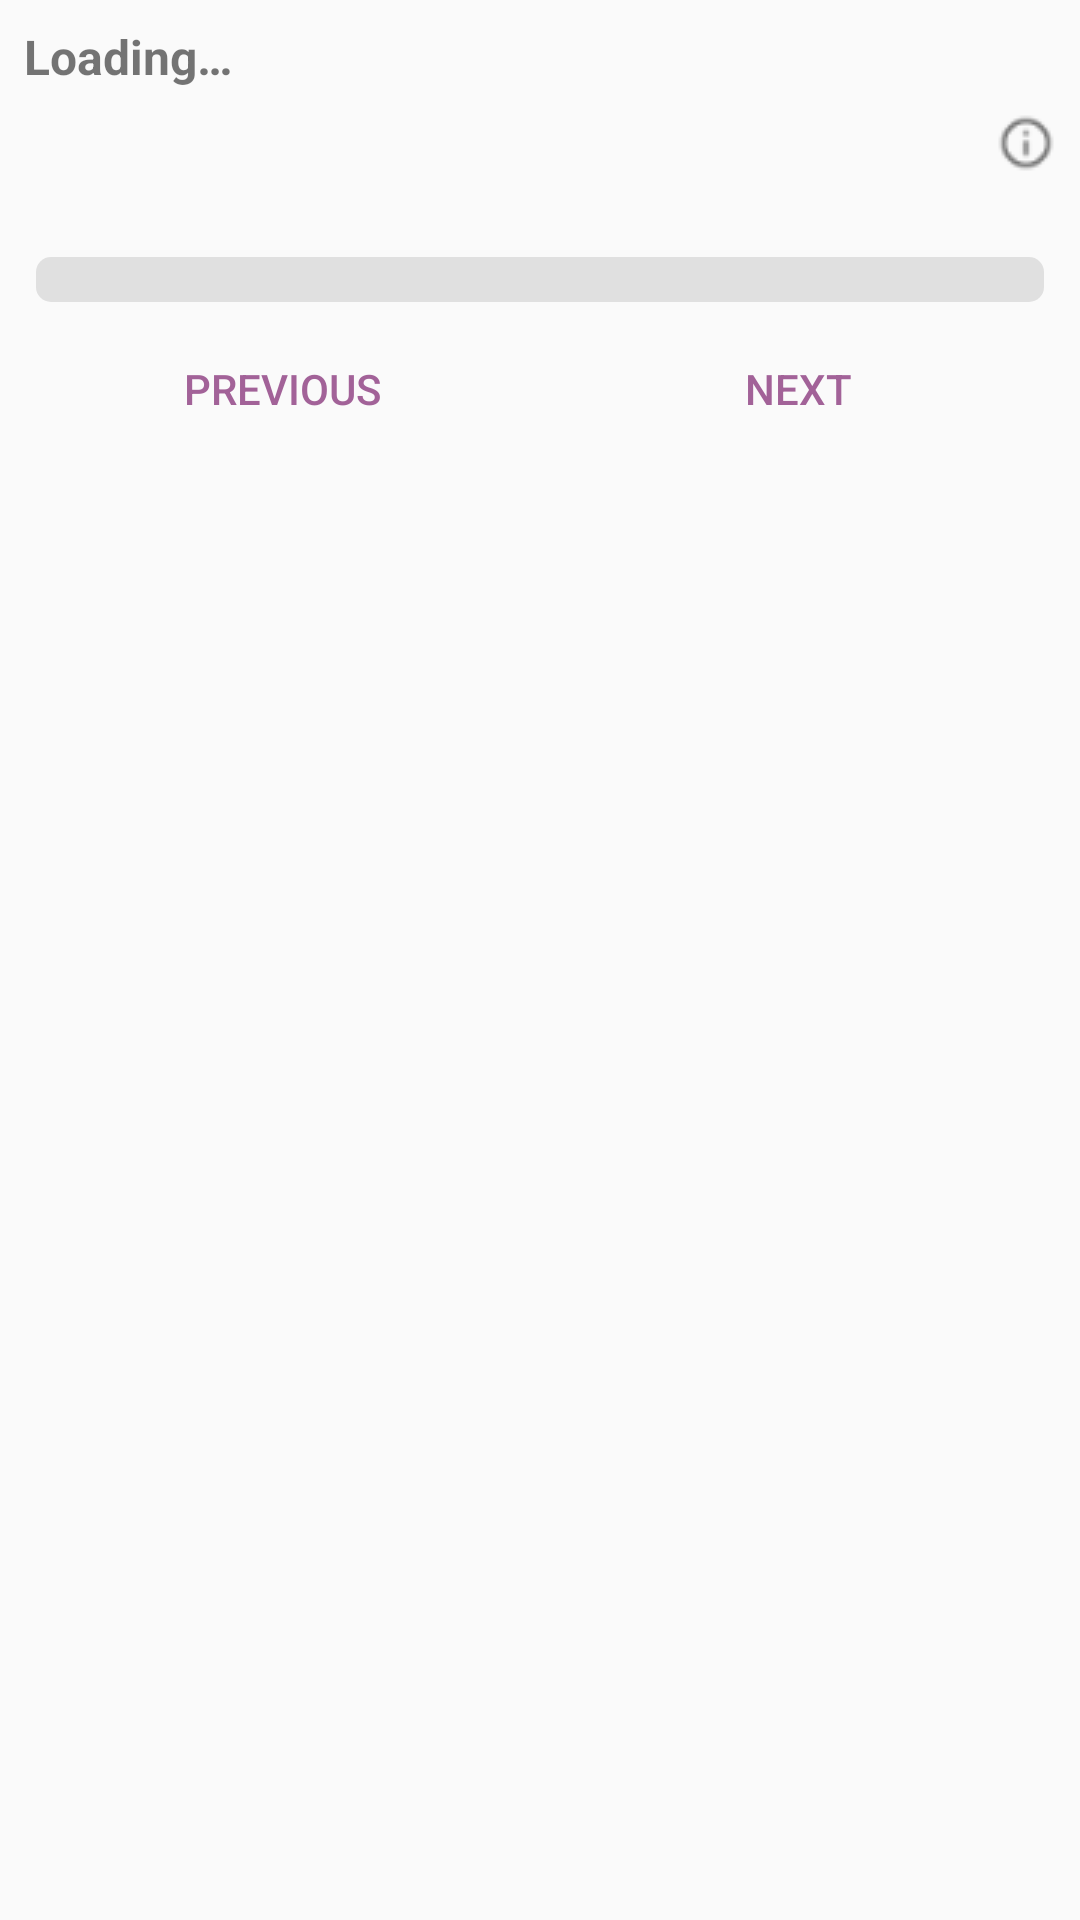

Locate icon controls on the screen. Image size 1080x1920, boxes as [x1, y1, x2, y2].
info: [1000, 117, 1052, 169]
